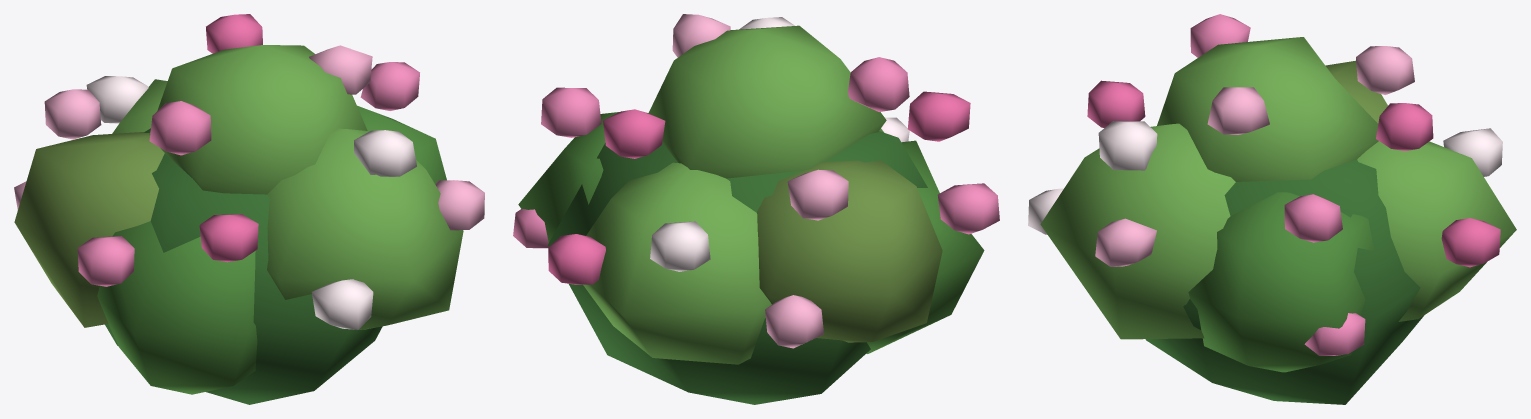
File: bushFlowering.far.glb
3 renders of one model, left to right at view 1: azimuth 30°, elevation 25°; view 2: azimuth 150°, elevation 25°; view 3: azimuth 270°, elevation 25°, orthographic. The views are drawn at different scales.
Visible parts, largest first — view 1: bushFlowering; view 2: bushFlowering; view 3: bushFlowering.
Boxes of the visible parts, bbox=[...] form: bushFlowering: bbox=[14, 14, 484, 404]; bushFlowering: bbox=[513, 14, 999, 404]; bushFlowering: bbox=[1028, 14, 1516, 404].
Bounding box in the file's own units: 1.18 × 1.02 × 1.26.
